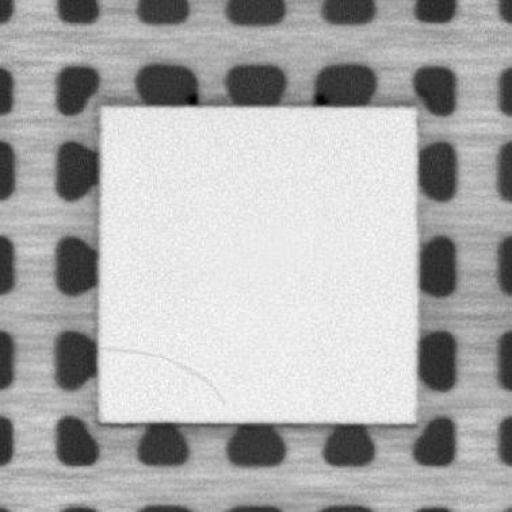DIE_CRACK: (104, 344, 225, 404)
